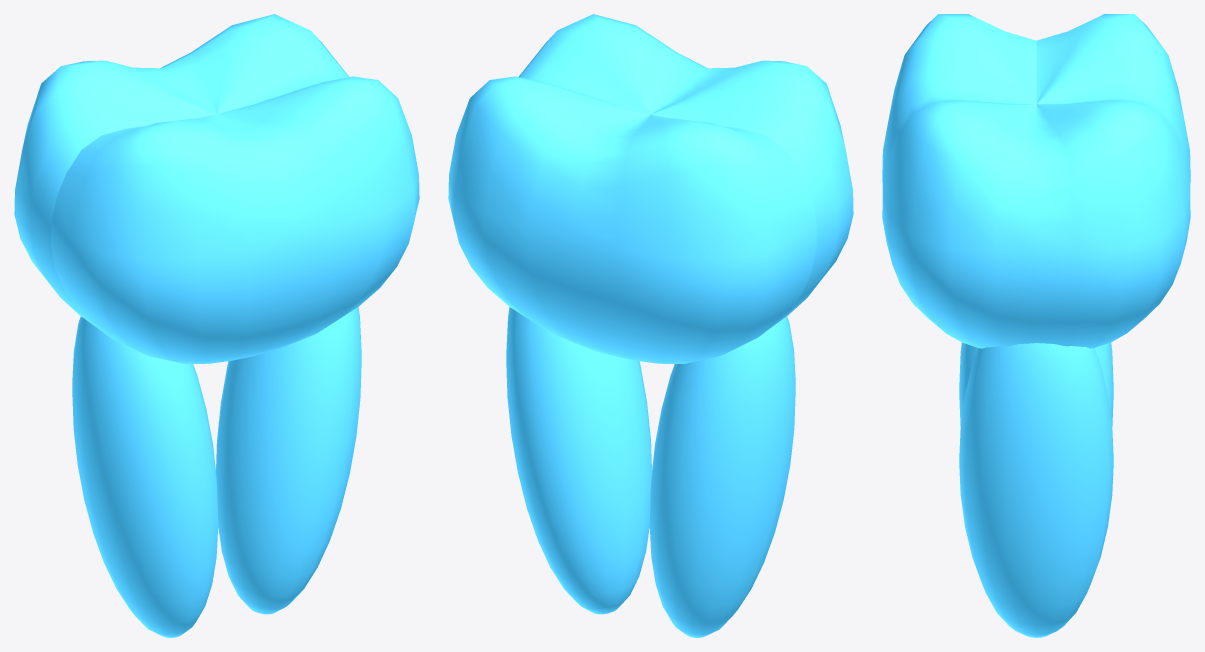
The model's file is dental-mobile.glb.
3 renders of one model, left to right at view 1: azimuth 30°, elevation 25°; view 2: azimuth 150°, elevation 25°; view 3: azimuth 270°, elevation 25°, orthographic.
Parts seen in each view (by area): view 1: crown, root_left, root_right; view 2: crown, root_left, root_right; view 3: crown, root_right, root_left.
Boxes of the visible parts, x1,y1,x2,y2 form: crown: (14, 14, 419, 363); root_left: (72, 316, 218, 637); root_right: (216, 307, 361, 614); crown: (448, 14, 853, 363); root_left: (649, 316, 795, 637); root_right: (506, 307, 651, 614); crown: (882, 14, 1190, 348); root_right: (959, 343, 1113, 637); root_left: (959, 342, 1113, 425).
Size of the model in its own units: 1.44 by 2.27 by 1.16.
